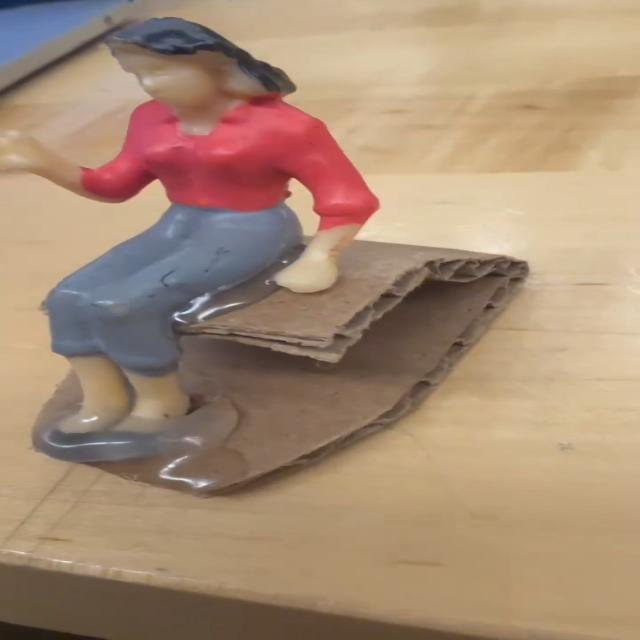Authorized: (0, 28, 408, 470)
